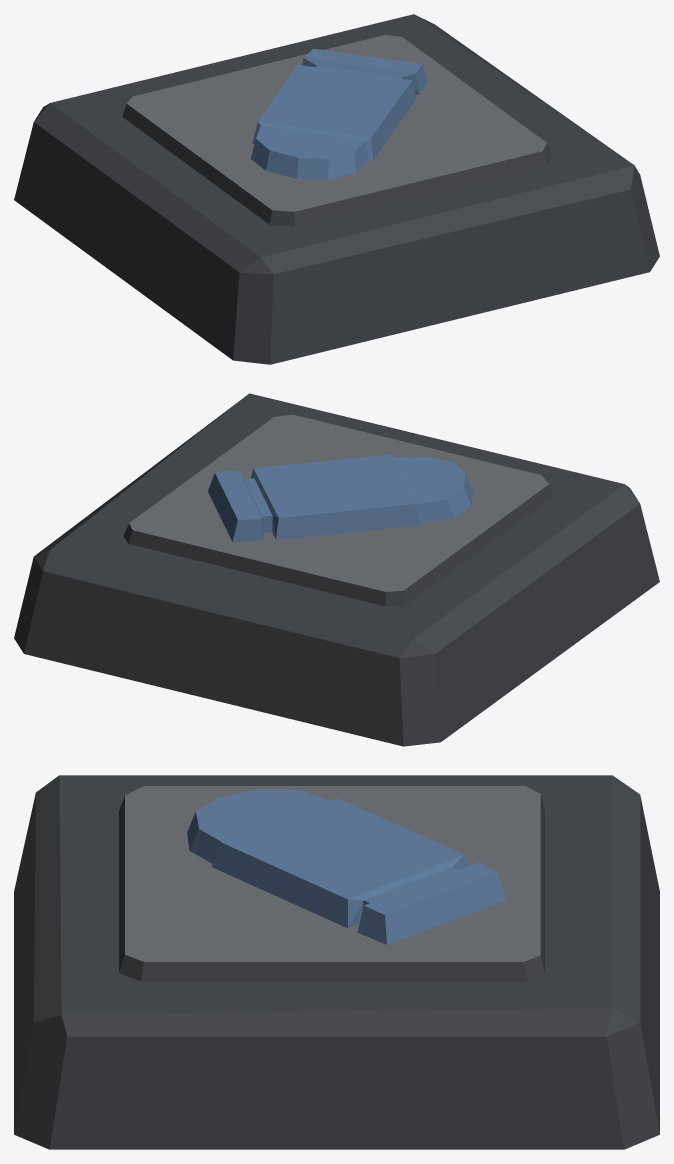
File: PowerUp_Ammo.fbx
The picture shows the model from 3 angles, top to bottom: view 1: azimuth 30°, elevation 25°; view 2: azimuth 150°, elevation 25°; view 3: azimuth 270°, elevation 25°; orthographic projection. The views are drawn at different scales.
Parts seen in each view (by area): view 1: PowerUp_Ammo; view 2: PowerUp_Ammo; view 3: PowerUp_Ammo.
Boxes of the visible parts, x1,y1,x2,y2 form: PowerUp_Ammo: (14,14,659,364); PowerUp_Ammo: (14,393,659,746); PowerUp_Ammo: (14,775,659,1149).
Size of the model in its own units: 0.5687 by 0.1598 by 0.5687.
